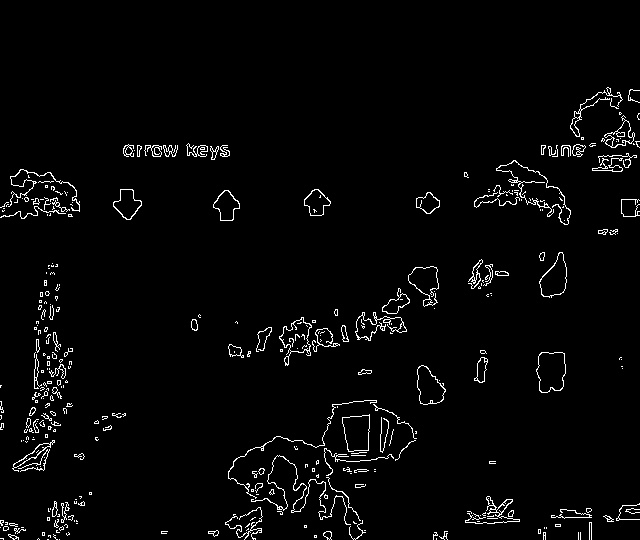down: (103, 182, 149, 226)
right: (409, 183, 443, 222)
up: (209, 186, 248, 228), (297, 184, 335, 222)
